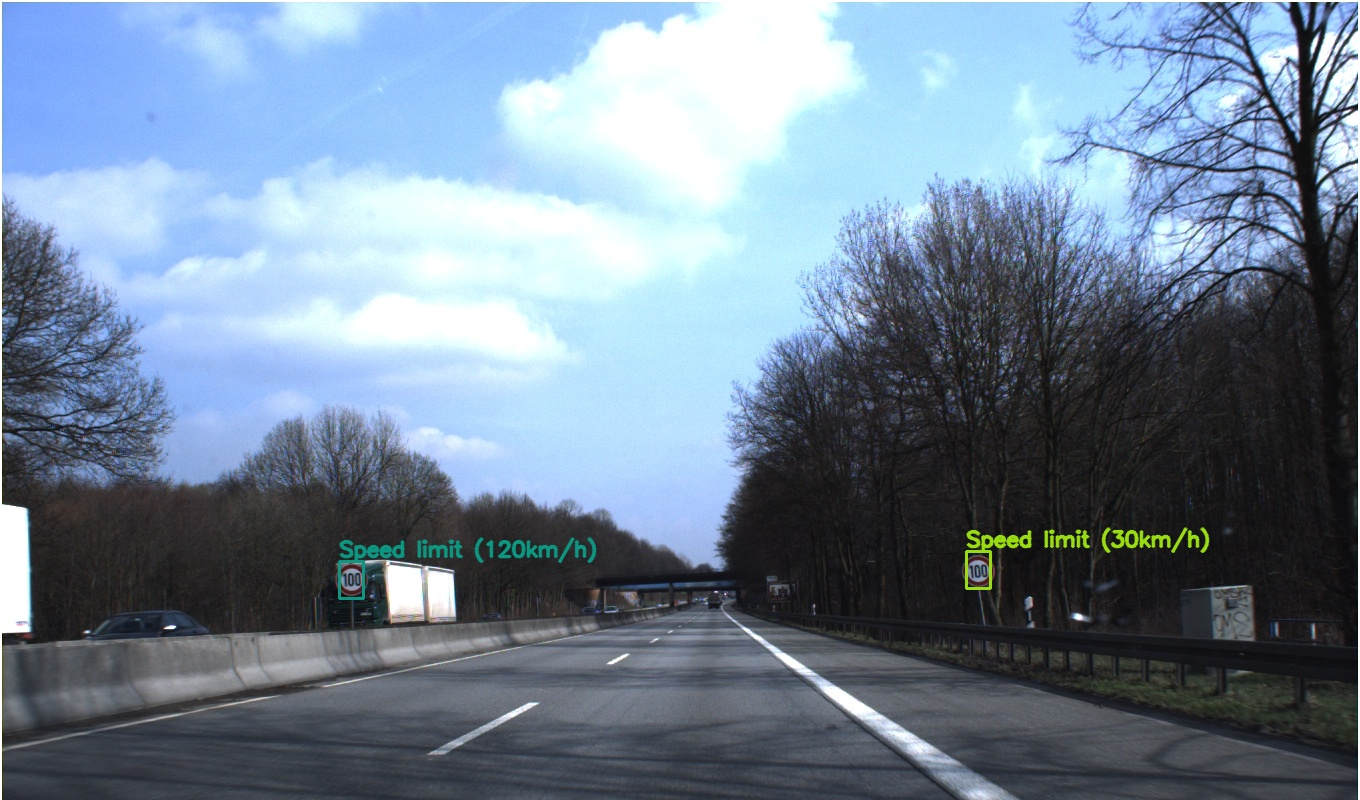Speed limit (50km/h): (816, 454, 835, 473)
